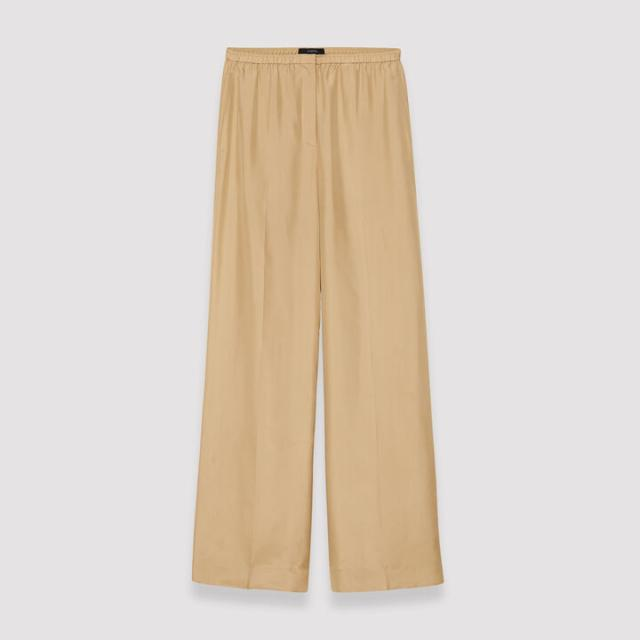long-pants: (191, 47, 441, 599)
